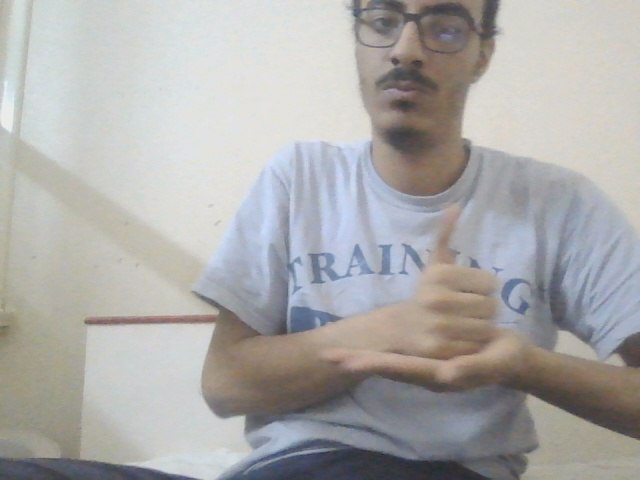Help: (313, 201, 548, 396)
